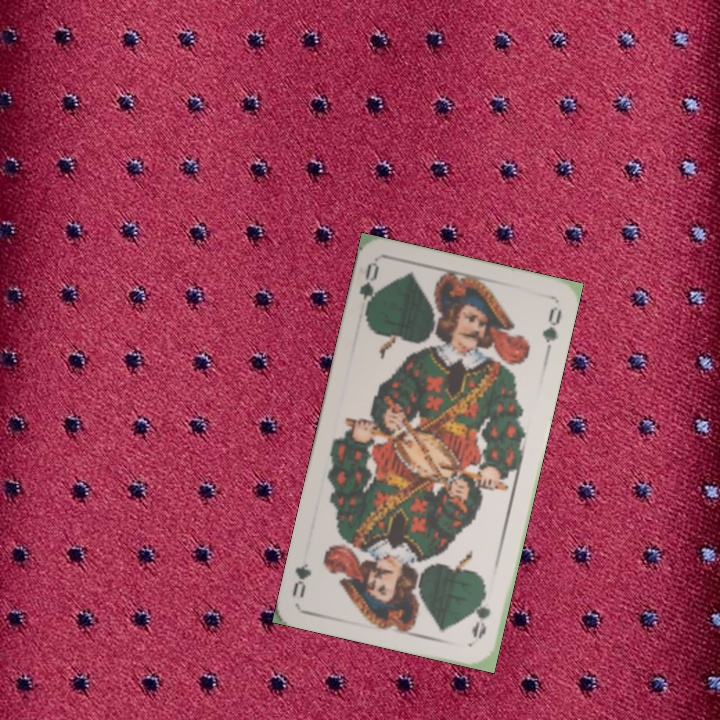GO: (355, 259, 384, 320), (468, 583, 493, 641)
